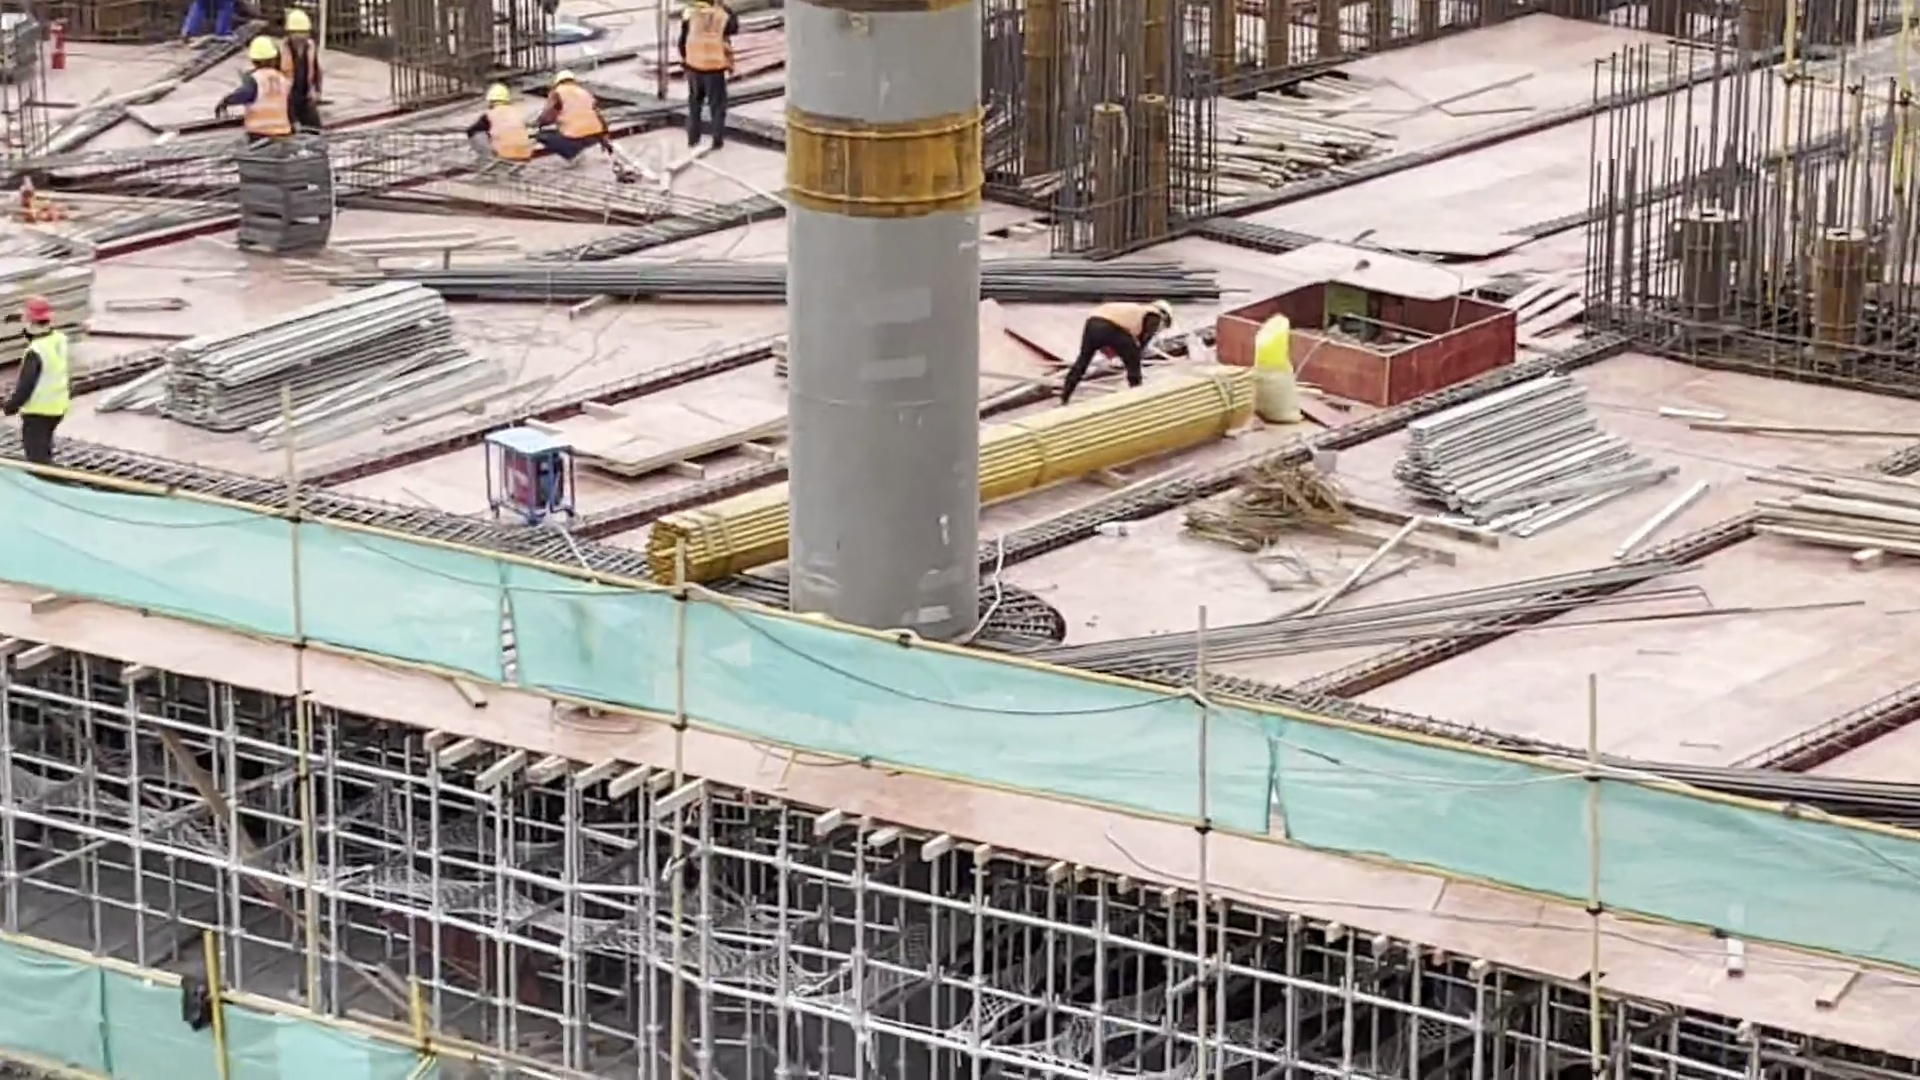helmet: (20, 290, 55, 325), (284, 7, 310, 35), (250, 35, 275, 62), (483, 79, 510, 101)
person: (2, 292, 69, 472), (1055, 299, 1171, 399), (672, 1, 744, 159), (215, 36, 282, 145), (533, 72, 604, 161), (280, 5, 326, 130), (466, 81, 531, 166)
vest: (15, 336, 68, 420), (681, 1, 730, 73), (245, 67, 291, 138), (484, 102, 530, 161), (555, 88, 606, 137)
